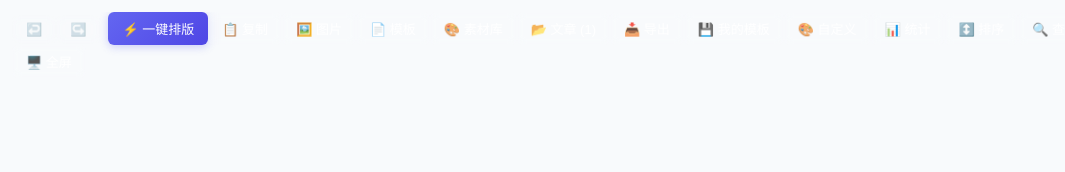
Test: Toolbar › shows success toast after successful copy
This screenshot has width=1065, height=172.
Click the button "📋 复制": (245, 28) top-left (208, 12), bottom-right (282, 45)
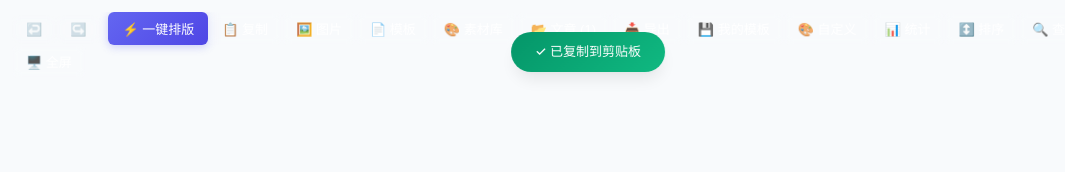
Check: the message shows "已复制到剪贴板", box top-left (535, 43), bottom-right (641, 59)
